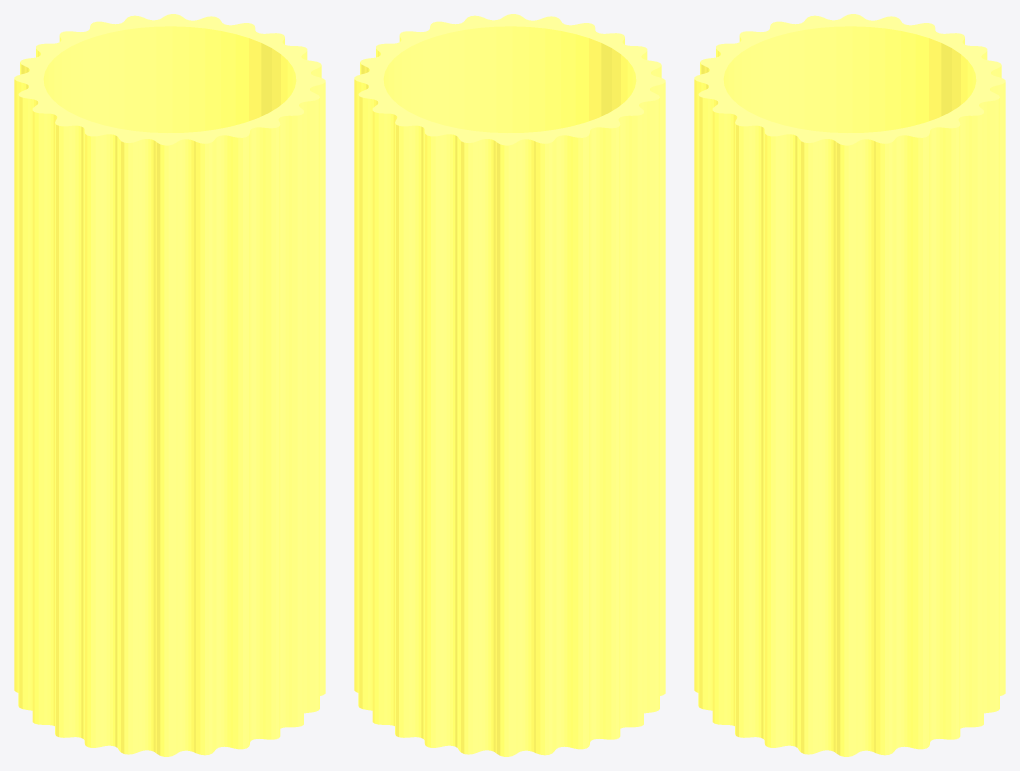
The model's file is Rigatoni.003.gltf.
3 renders of one model, left to right at view 1: azimuth 30°, elevation 25°; view 2: azimuth 150°, elevation 25°; view 3: azimuth 270°, elevation 25°, orthographic.
Parts seen in each view (by area): view 1: Rigatoni.003; view 2: Rigatoni.003; view 3: Rigatoni.003.
Part boxes in pixels (x1,y1,x2,y2): Rigatoni.003: [14, 14, 325, 756]; Rigatoni.003: [354, 14, 665, 756]; Rigatoni.003: [694, 14, 1005, 756].
Bounding box in the file's own units: 1.37 × 2.96 × 1.37.
